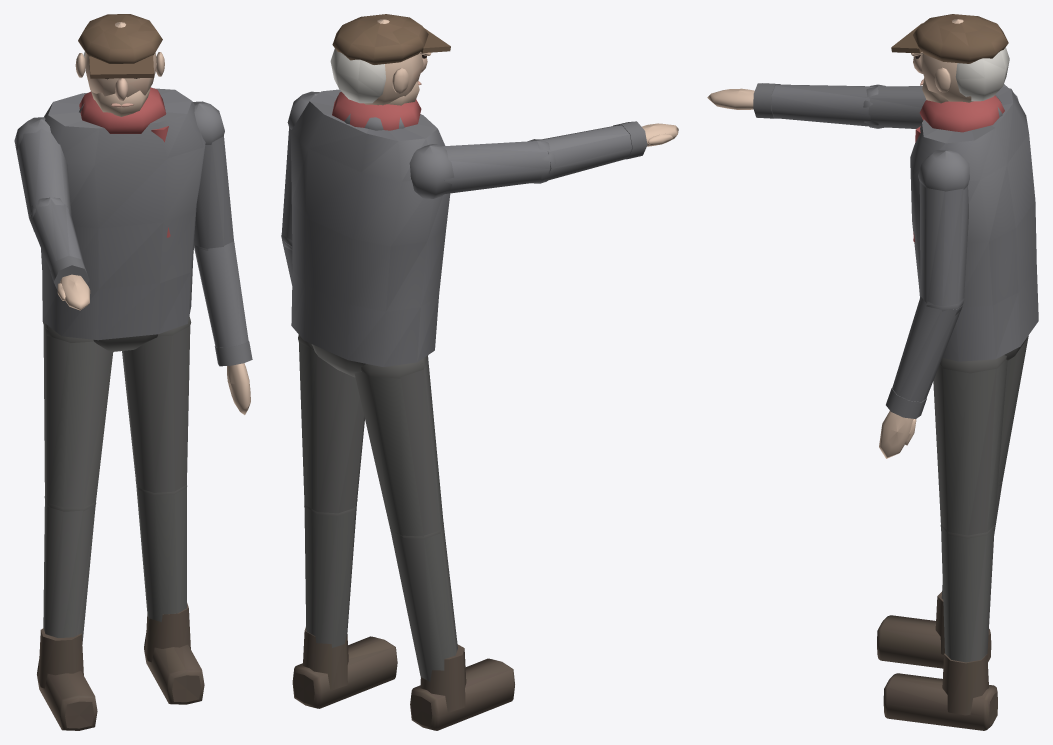
Rendered from crowd_point_a.glb.
3 renders of one model, left to right at view 1: azimuth 30°, elevation 25°; view 2: azimuth 150°, elevation 25°; view 3: azimuth 270°, elevation 25°, orthographic. The views are drawn at different scales.
Visible parts, largest first — view 1: body; view 2: body; view 3: body.
Part boxes in pixels (box(x1,y1,x2,y2)): body: box(14, 14, 252, 730); body: box(281, 14, 678, 730); body: box(707, 14, 1038, 730).
Size of the model in its own units: 0.6717 by 1.56 by 0.6934.
